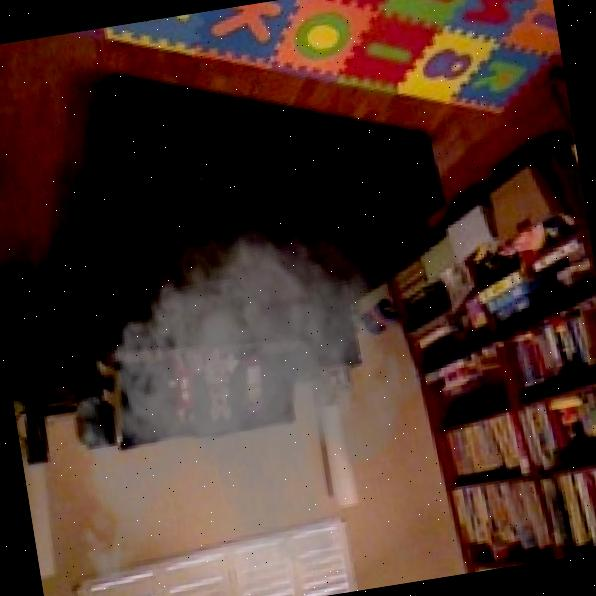smoke: (102, 214, 387, 466)
